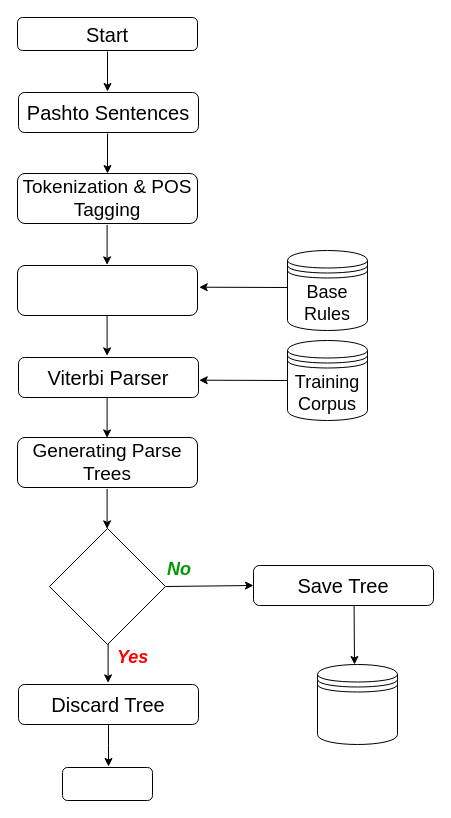
Some shapes in this 451 by 818 pixel diagram are drawn without their labels. The centre of each missing label's shape, as x and y in pixels:
Assigning Probabilities: [107,290]
End: [107,783]
Prob< β: [107,586]
Tree Bank: [357,704]
